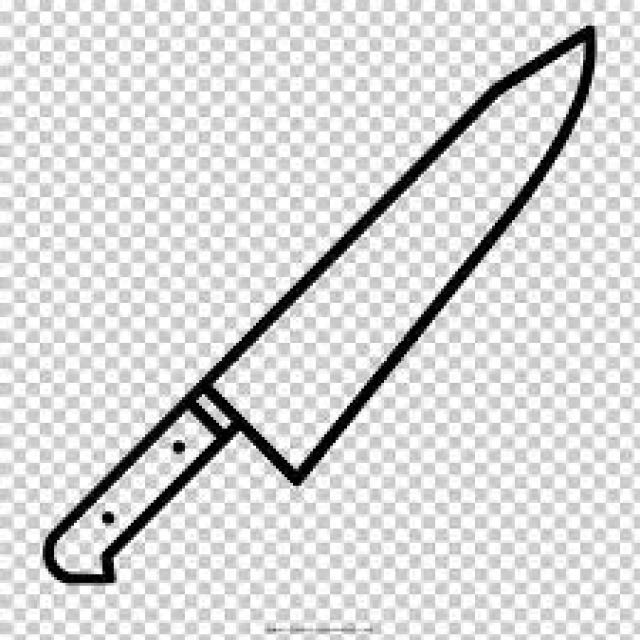Knife: (40, 23, 594, 583)
